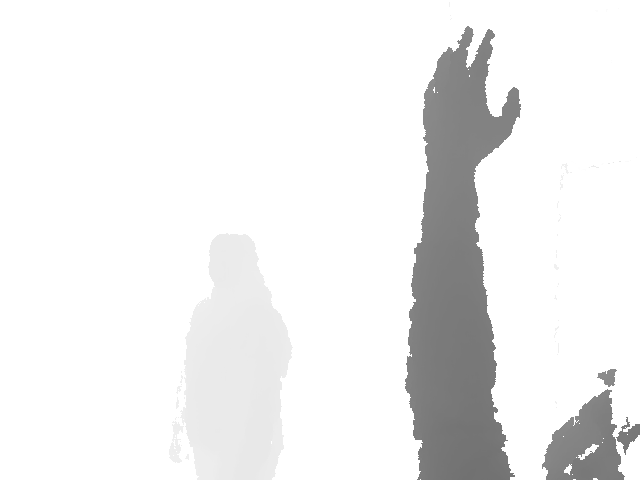hand: (423, 27, 521, 169)
head: (538, 367, 640, 478), (207, 232, 263, 295)
person: (403, 26, 640, 480), (167, 233, 294, 480)
